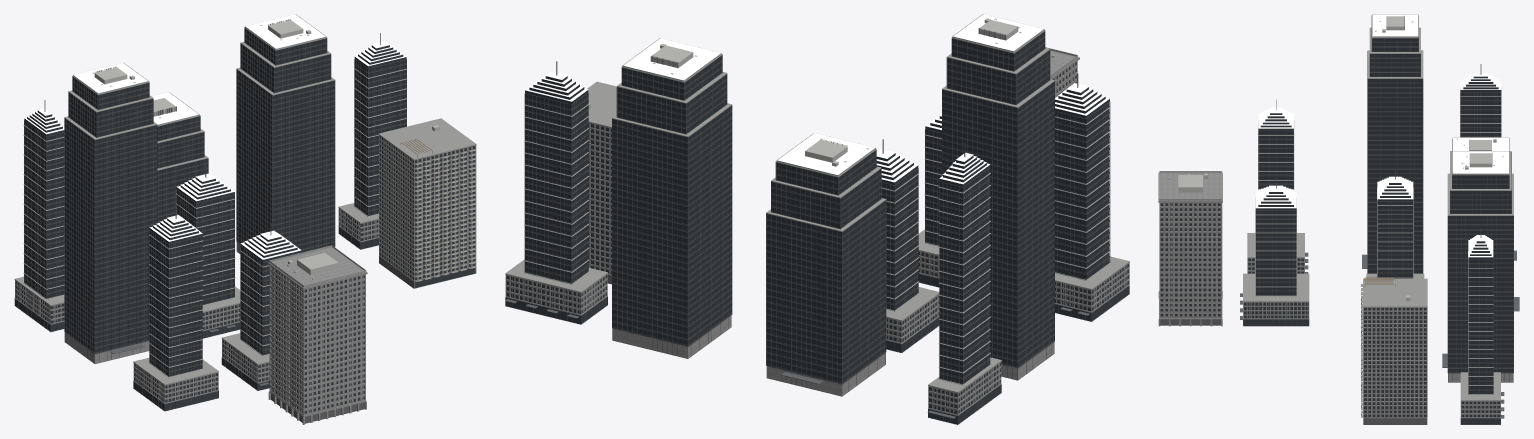
The picture shows the model from 3 angles, left to right: view 1: azimuth 30°, elevation 25°; view 2: azimuth 150°, elevation 25°; view 3: azimuth 270°, elevation 25°; orthographic projection. The views are drawn at different scales.
Parts seen in each view (by area): view 1: City16__C16Glass, City16__C16Alu, City16__C16Spandrel, City16__WindowGlass, City16__C16Stone, City16__C16Coping, City16__C16Render, City16__C16Light, City16__C16Panel, City16__C16Band, City16__C16Plant, City16__C16Rail (+5 smaller); view 2: City16__C16Glass, City16__C16Alu, City16__C16Spandrel, City16__WindowGlass, City16__C16Coping, City16__C16Light, City16__C16Panel, City16__C16Band, City16__C16Stone, City16__C16Render, City16__C16Plant; view 3: City16__C16Glass, City16__C16Spandrel, City16__WindowGlass, City16__C16Stone, City16__C16Alu, City16__C16Coping, City16__C16Render, City16__C16Light, City16__C16Band, City16__C16Panel, City16__C16Plant, City16__C16Core (+2 smaller).
Part boxes in pixels (left/top/right/bottom): City16__C16Glass: left=24, top=28, right=406, bottom=375; City16__C16Alu: left=14, top=19, right=406, bottom=411; City16__C16Spandrel: left=24, top=32, right=406, bottom=376; City16__WindowGlass: left=15, top=136, right=475, bottom=413; City16__C16Stone: left=64, top=242, right=366, bottom=415; City16__C16Coping: left=14, top=14, right=476, bottom=385; City16__C16Render: left=378, top=135, right=476, bottom=280; City16__C16Light: left=24, top=14, right=406, bottom=259; City16__C16Panel: left=15, top=208, right=378, bottom=403; City16__C16Band: left=23, top=68, right=407, bottom=377; City16__C16Plant: left=92, top=20, right=474, bottom=279; City16__C16Rail: left=417, top=149, right=475, bottom=281; City16__C16Glass: left=525, top=31, right=1109, bottom=383; City16__C16Alu: left=505, top=28, right=1129, bottom=424; City16__C16Spandrel: left=525, top=36, right=1109, bottom=384; City16__WindowGlass: left=505, top=62, right=1129, bottom=424; City16__C16Coping: left=505, top=14, right=1129, bottom=392; City16__C16Light: left=525, top=14, right=1109, bottom=184; City16__C16Panel: left=505, top=251, right=1129, bottom=415; City16__C16Band: left=524, top=104, right=1110, bottom=385; City16__C16Stone: left=612, top=50, right=1078, bottom=396; City16__C16Render: left=588, top=122, right=611, bottom=275; City16__C16Plant: left=588, top=18, right=1054, bottom=166; City16__C16Glass: left=1256, top=38, right=1513, bottom=393; City16__C16Spandrel: left=1256, top=41, right=1513, bottom=394; City16__WindowGlass: left=1160, top=203, right=1500, bottom=424; City16__C16Stone: left=1159, top=172, right=1513, bottom=382; City16__C16Alu: left=1243, top=15, right=1513, bottom=424; City16__C16Coping: left=1159, top=14, right=1513, bottom=417; City16__C16Render: left=1363, top=307, right=1427, bottom=418; City16__C16Light: left=1255, top=14, right=1508, bottom=257; City16__C16Band: left=1255, top=87, right=1501, bottom=394; City16__C16Panel: left=1243, top=258, right=1500, bottom=418; City16__C16Plant: left=1168, top=16, right=1503, bottom=416; City16__C16Core: left=1160, top=92, right=1499, bottom=424.
Size of the model in its own units: 274 by 188 by 247.
19 materials, 4 textured.
